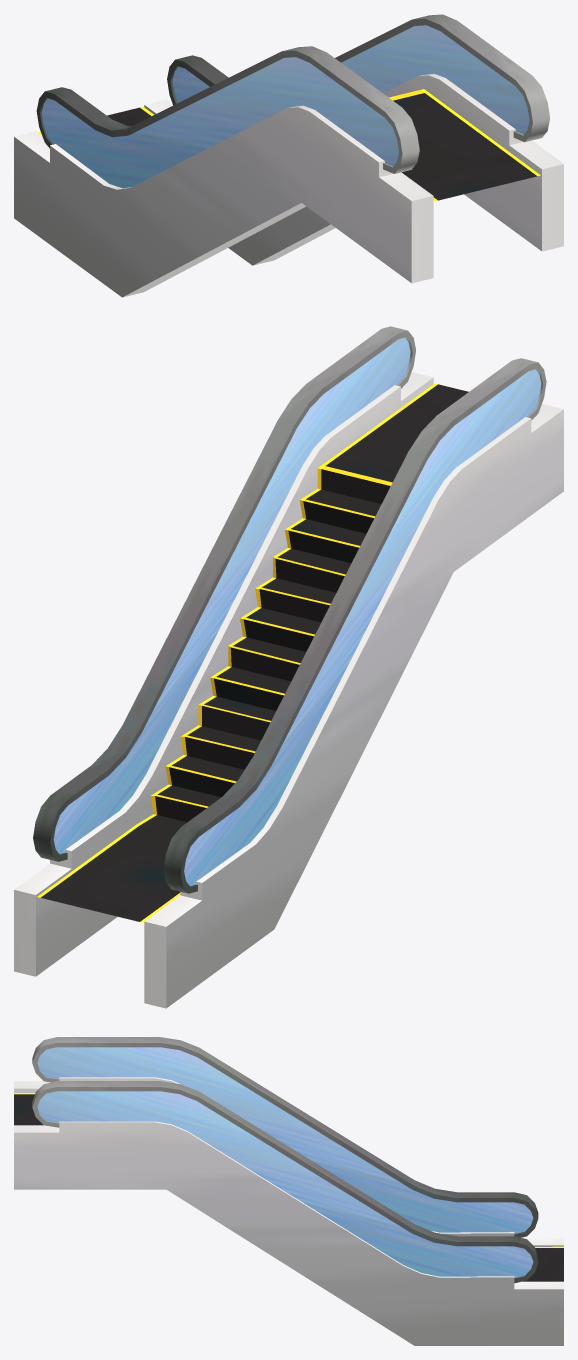
The picture shows the model from 3 angles, top to bottom: view 1: azimuth 30°, elevation 25°; view 2: azimuth 150°, elevation 25°; view 3: azimuth 270°, elevation 25°; orthographic projection. The views are drawn at different scales.
Parts seen in each view (by area): view 1: AirportEscalator; view 2: AirportEscalator; view 3: AirportEscalator.
Part boxes in pixels (x1,y1,x2,y2): AirportEscalator: (14,14,563,297); AirportEscalator: (14,326,563,1008); AirportEscalator: (14,1037,563,1345).
Size of what is drawn, in the model's own units: 1.86 by 4.36 by 8.4.
1 material, 1 textured.
